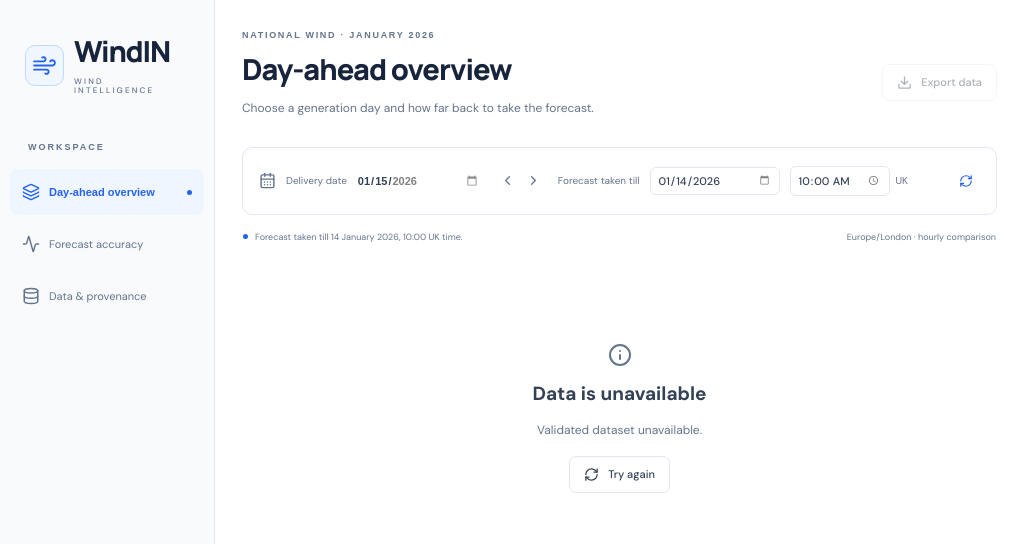
dashboard workflows › shows an unavailable state and retries without invented data
Check: the message shows "Validated dataset unavailable.", box [537, 422, 702, 438]
Check: the text "24 of 24 hourly pairs matched" is not shown
Step 1. Click the button "Try again" → click(619, 474), box [569, 456, 670, 492]
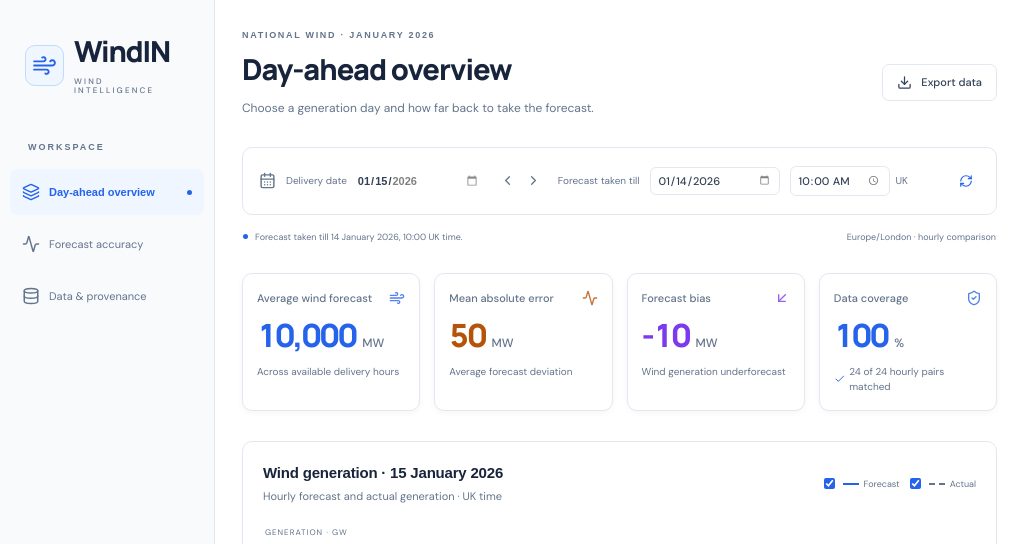
Check: the text "24 of 24 hourly pairs matched" is shown, box [834, 364, 944, 392]
